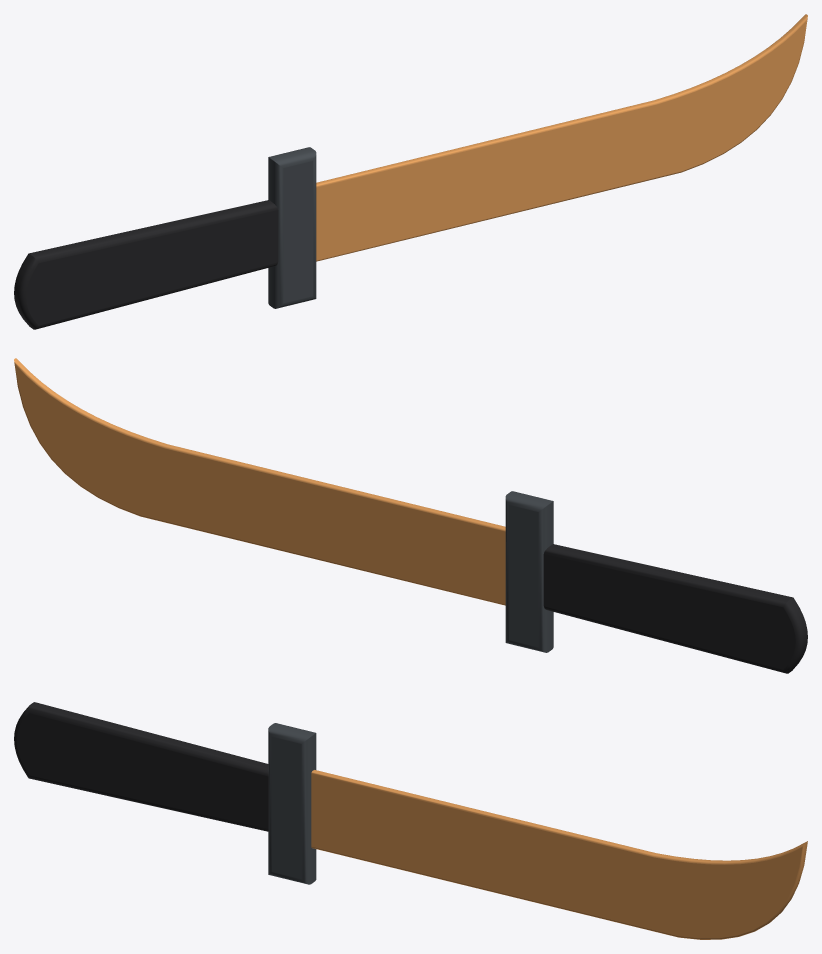
Rendered from bowie.glb.
3 views of the same model, one above another, from view 1: azimuth 30°, elevation 25°; view 2: azimuth 150°, elevation 25°; view 3: azimuth 330°, elevation 25° (orthographic).
Parts seen in each view (by area): view 1: paint_0, poly_2, metal_1; view 2: paint_0, poly_2, metal_1; view 3: paint_0, poly_2, metal_1.
Boxes of the visible parts, x1,y1,x2,y2 form: paint_0: (316,14,807,261); poly_2: (14,200,278,329); metal_1: (268,147,316,308); paint_0: (14,358,505,605); poly_2: (543,544,807,673); metal_1: (505,491,553,652); paint_0: (311,770,807,939); poly_2: (14,702,268,831); metal_1: (268,723,316,884).
Size of the model in its own units: 318 by 62.13 by 7.92.
